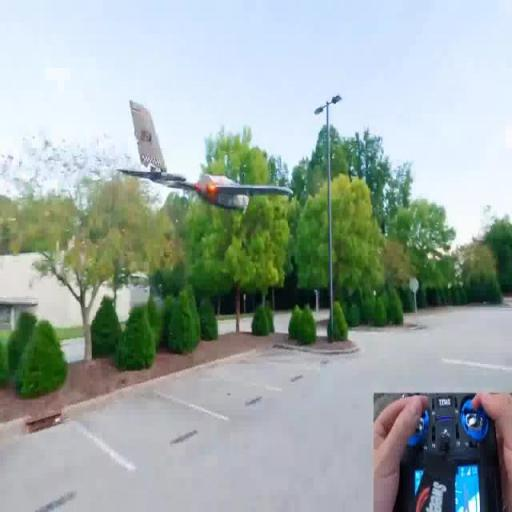uav: (122, 94, 296, 223)
